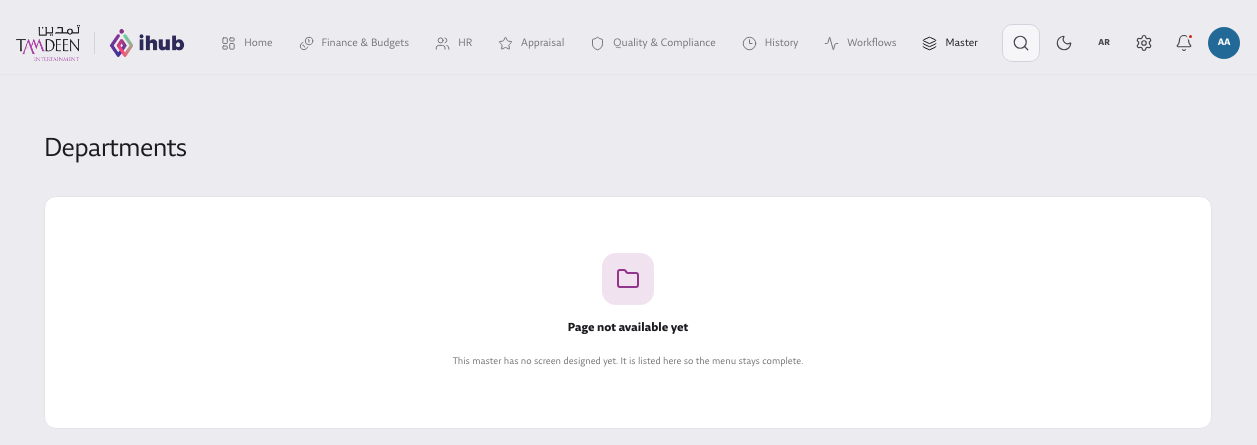
Test case: AppShell › opens Masters on the current category, closes on Escape, and restores focus
Click the button "Masters" at (963, 43), box [910,24,1016,62]
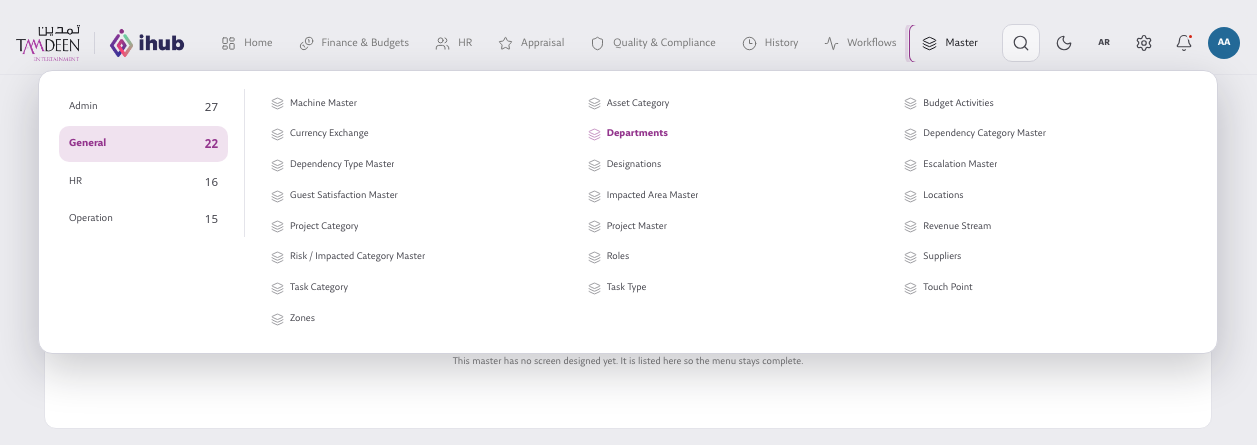
Press Escape
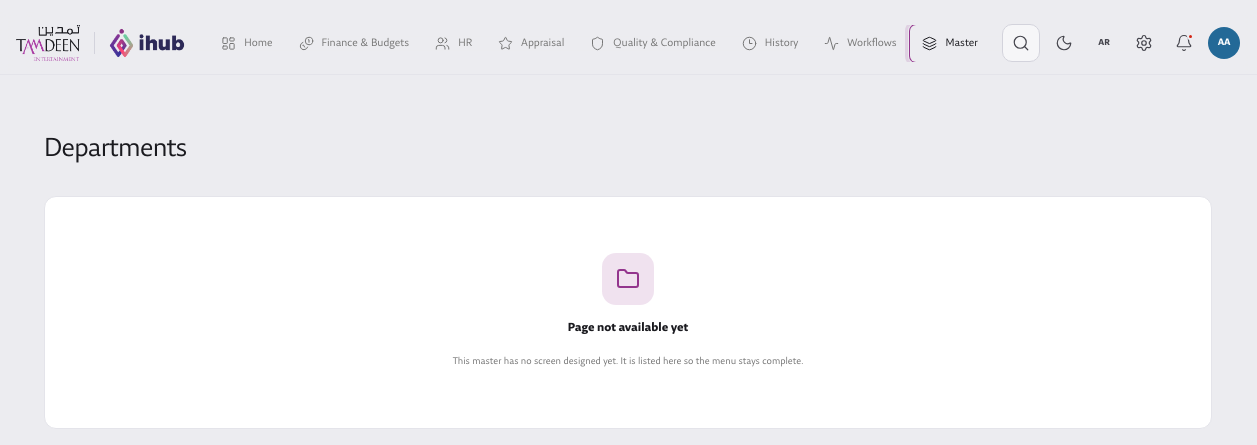
Check: the element with test id "mega-menu" is gone
